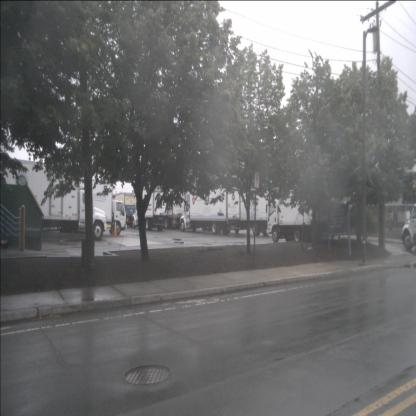cone: (113, 220, 118, 236)
